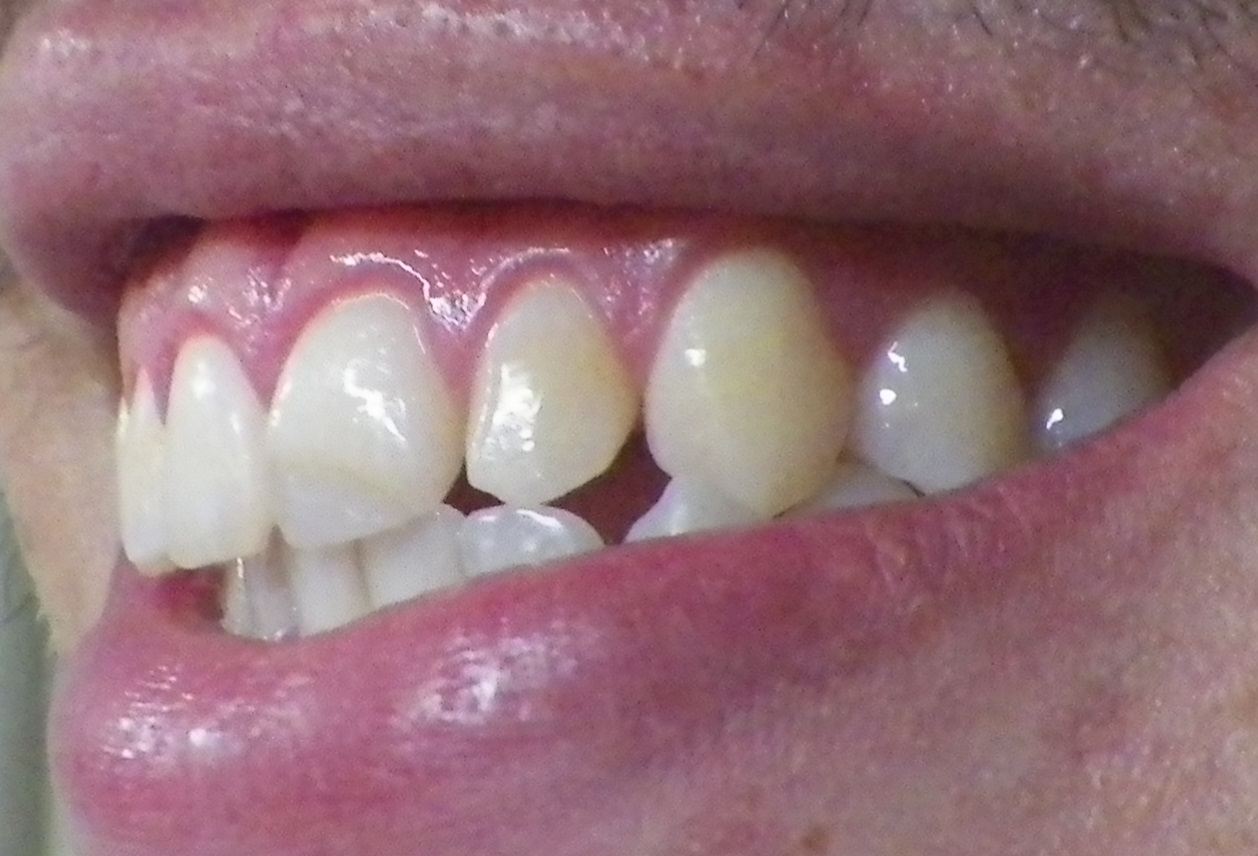boca: (109, 246, 1171, 639)
